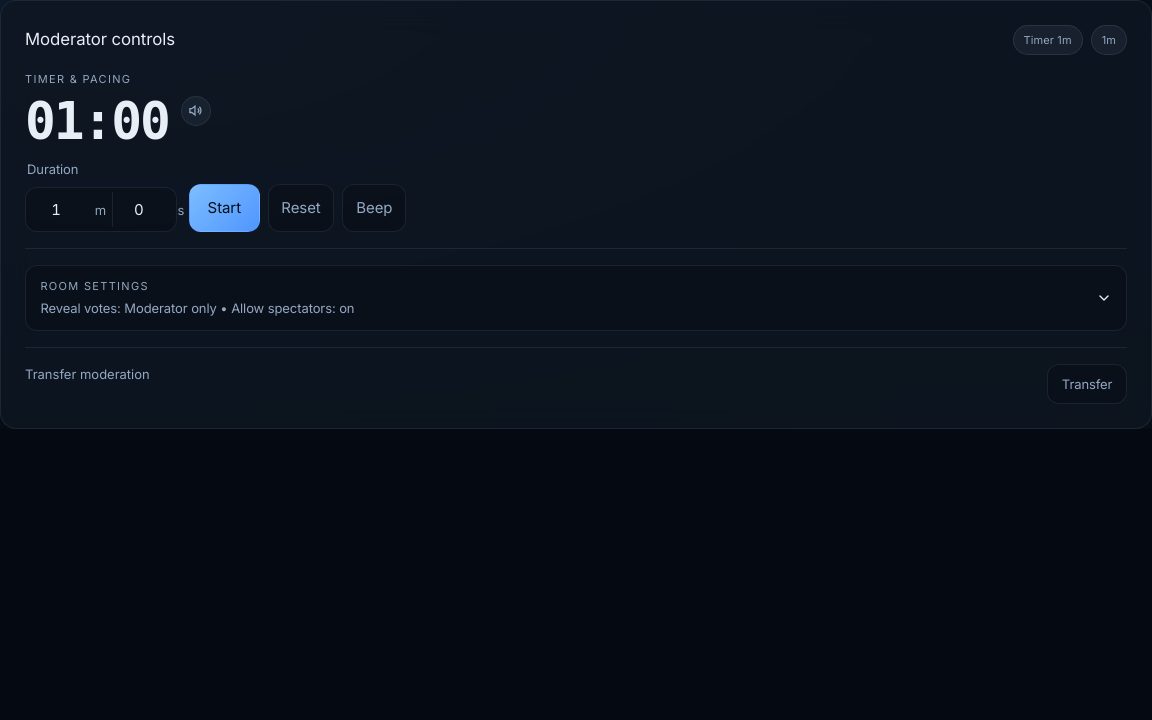
Scenario: ModeratorControls › renders pacing controls without inline round actions on desktop
The image size is (1152, 720).
Check: the heading "01:00" is shown, box [25, 96, 169, 147]
Check: the button "Start" is shown, box [189, 184, 260, 232]
Click the button "Transfer" at (1087, 384), box [1047, 364, 1127, 404]
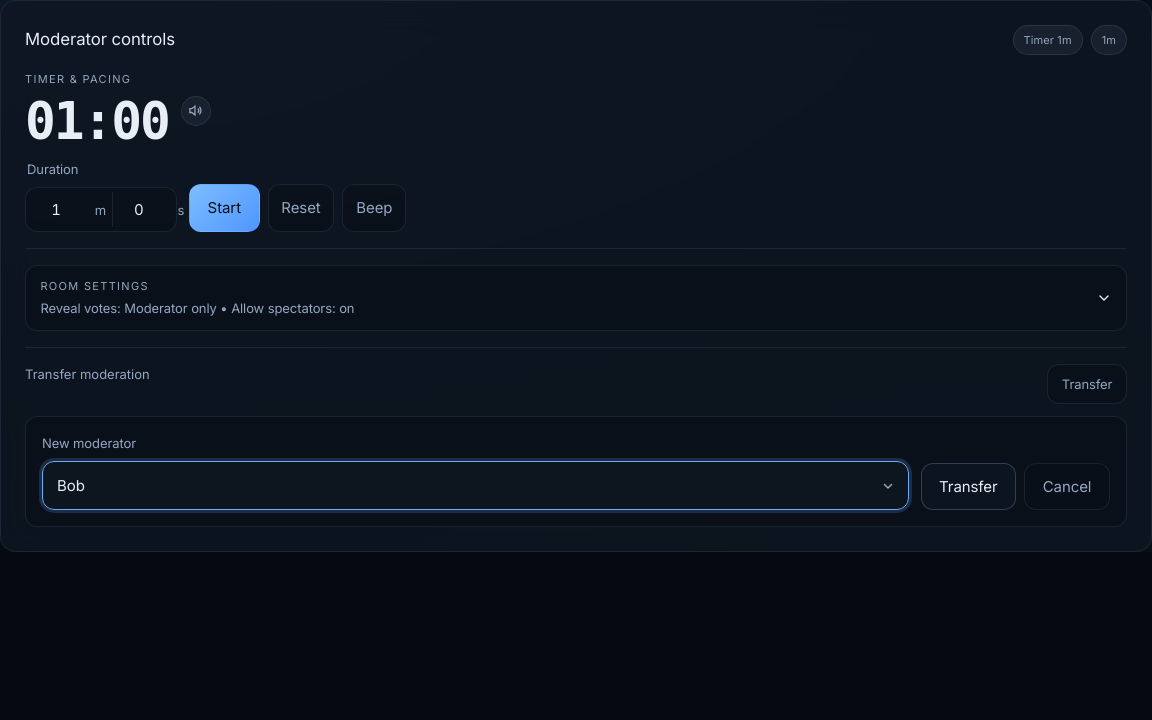
Check: the element "New moderator Transfer Cancel" is shown, box [25, 416, 1127, 527]
Check: the dropdown labelled "New moderator" is shown, box [42, 461, 908, 510]
